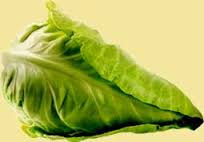cabbage: (7, 10, 204, 134)
